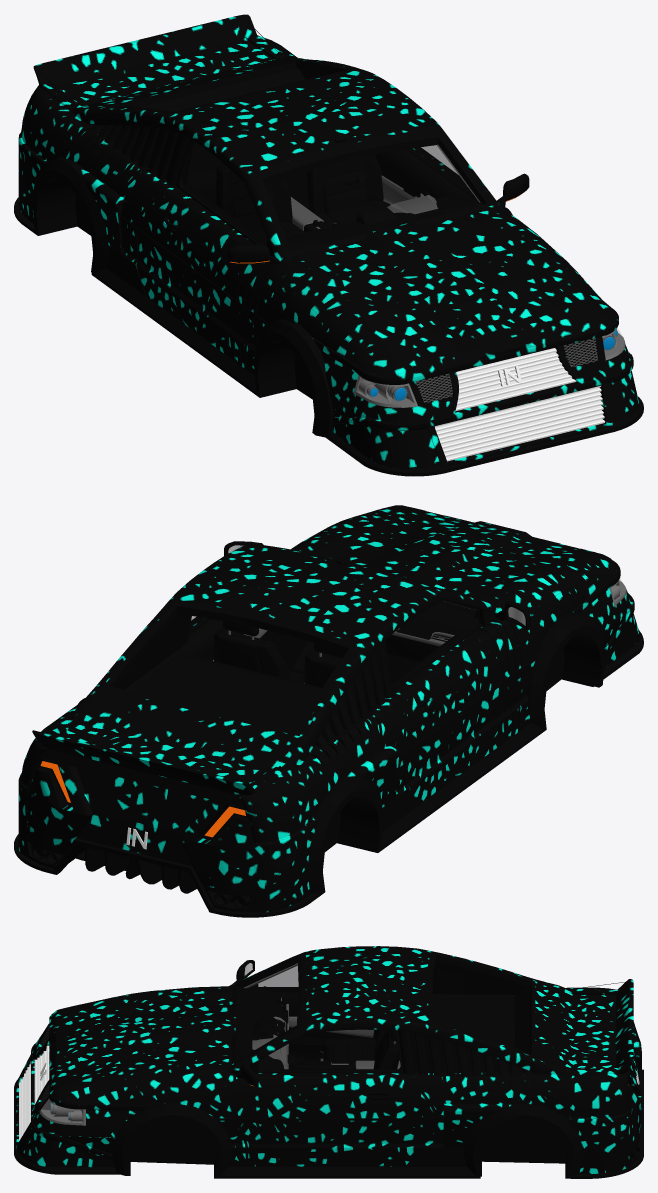
File: Body.fbx
3 renders of one model, top to bottom at view 1: azimuth 30°, elevation 25°; view 2: azimuth 150°, elevation 25°; view 3: azimuth 270°, elevation 25°, orthographic. The views are drawn at different scales.
Parts seen in each view (by area): view 1: IN; view 2: IN; view 3: IN.
Boxes of the visible parts, left/top/right/bottom form: IN: left=14, top=14, right=643, bottom=476; IN: left=14, top=505, right=643, bottom=917; IN: left=14, top=946, right=643, bottom=1178.
Bounding box in the file's own units: 25.4 × 14.48 × 57.73.
